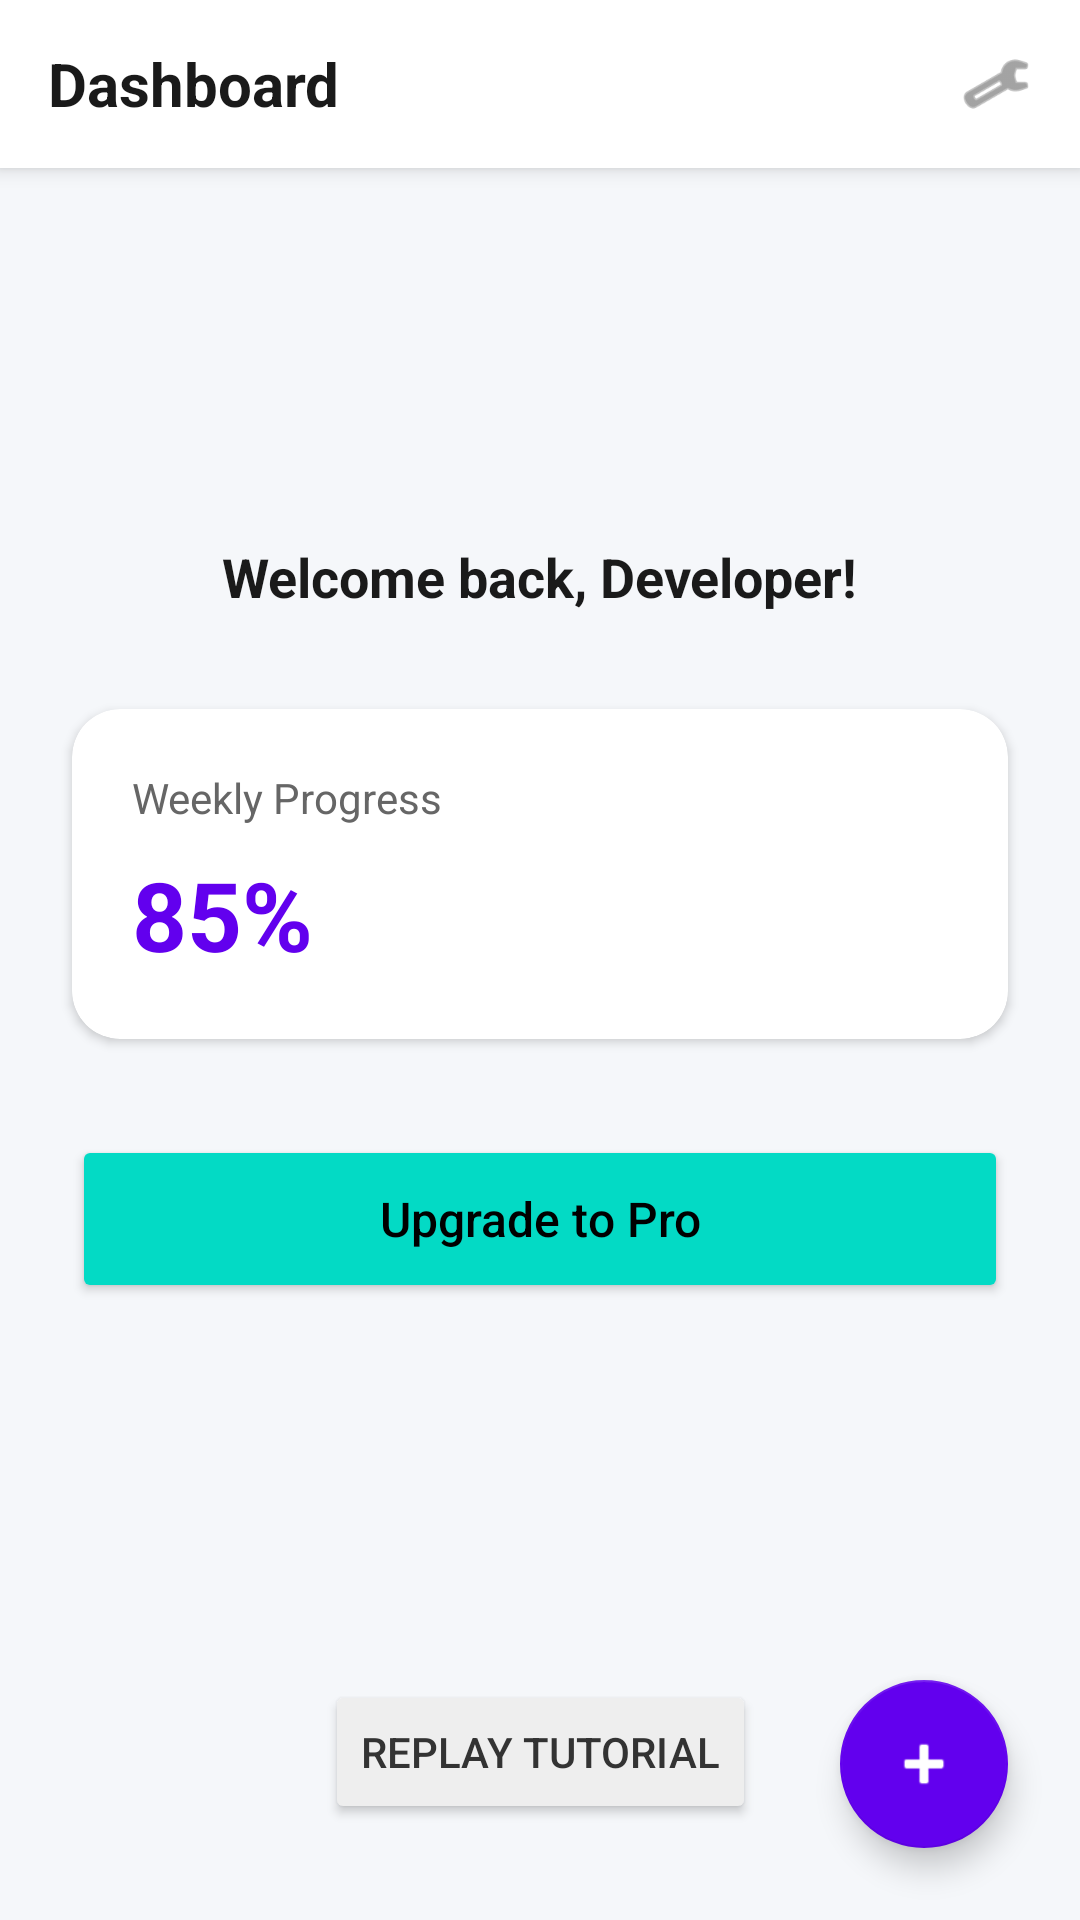

Locate icon controls on the screen. Image size 1080w x 1920h, boxes as (x1, y1, x2, y2).
add: (840, 1680, 1008, 1848)
preferences: (964, 59, 1028, 109)
